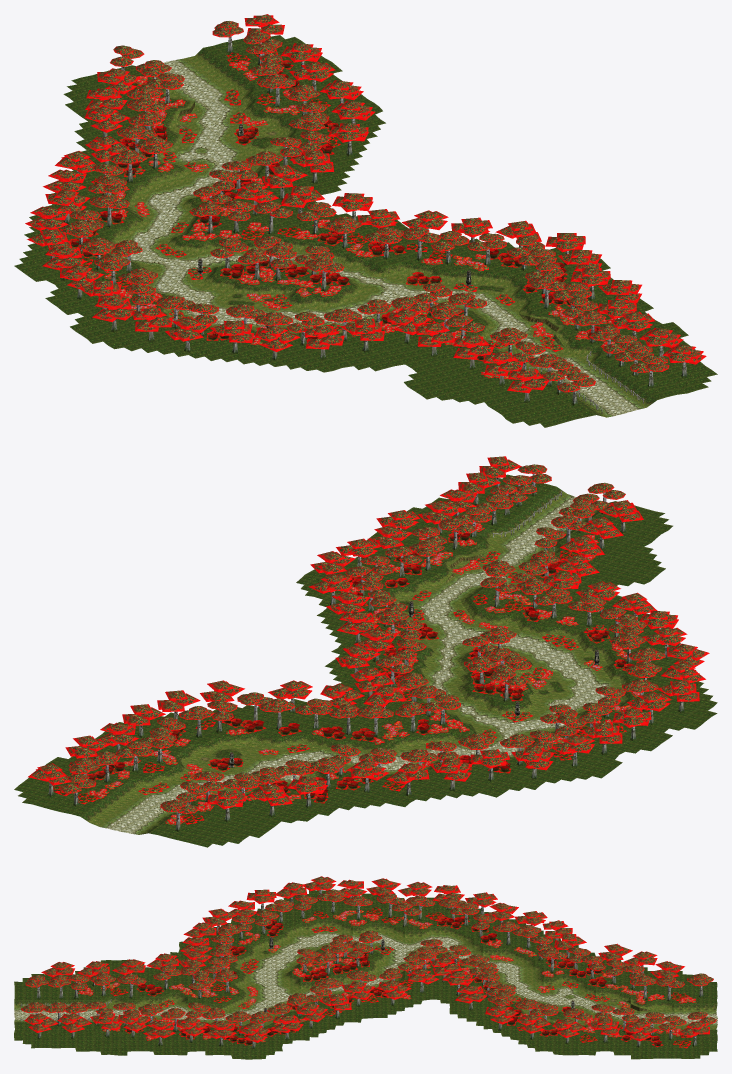
Rendered from AcademyTrail2.obj.
3 renders of one model, top to bottom at view 1: azimuth 30°, elevation 25°; view 2: azimuth 150°, elevation 25°; view 3: azimuth 270°, elevation 25°, orthographic. The views are drawn at different scales.
Visible parts, largest first — view 1: Object.008; view 2: Object.008; view 3: Object.008.
Boxes of the visible parts, x1,y1,x2,y2 form: Object.008: (14,14,717,427); Object.008: (14,456,717,847); Object.008: (14,876,717,1059).
Bounding box in the file's own units: 92.44 × 7.14 × 162.
Materials: 7 (7 with a texture image).
